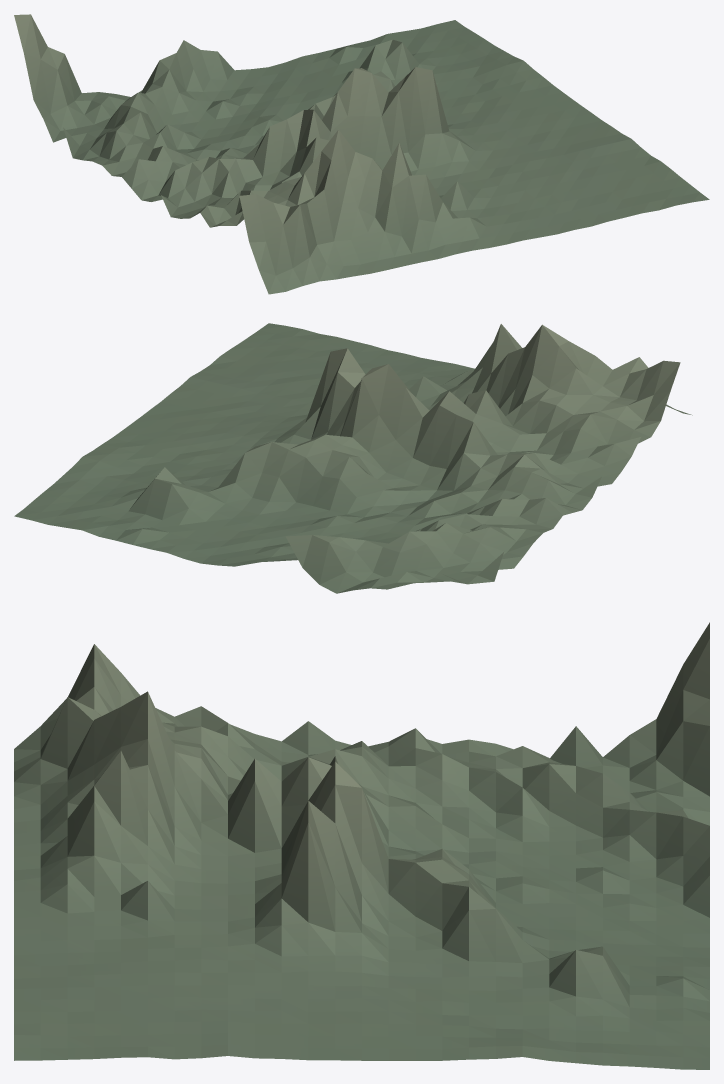
The model's file is tile_3_3.glb.
3 renders of one model, top to bottom at view 1: azimuth 30°, elevation 25°; view 2: azimuth 150°, elevation 25°; view 3: azimuth 270°, elevation 25°, orthographic. The views are drawn at different scales.
Visible parts, largest first — view 1: geometry_0; view 2: geometry_0; view 3: geometry_0.
Boxes of the visible parts, x1,y1,x2,y2 form: geometry_0: [14, 14, 709, 294]; geometry_0: [14, 323, 692, 593]; geometry_0: [14, 622, 709, 1069].
Bounding box in the file's own units: 127 × 33.53 × 127.
